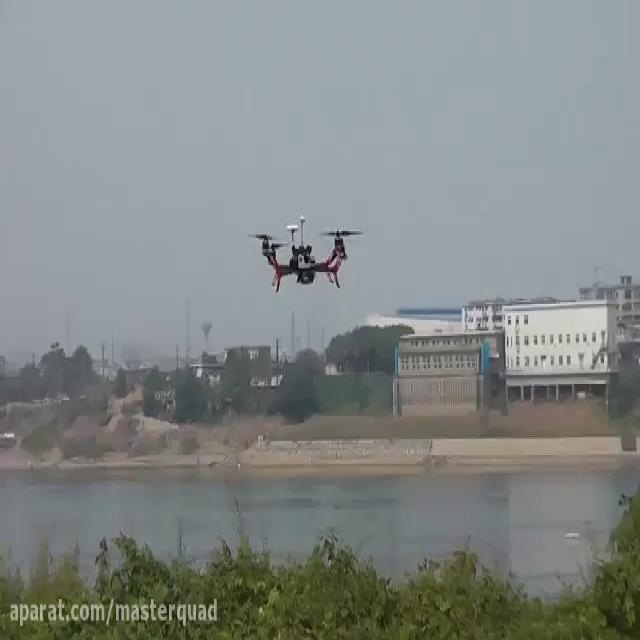drone: (243, 210, 367, 297)
